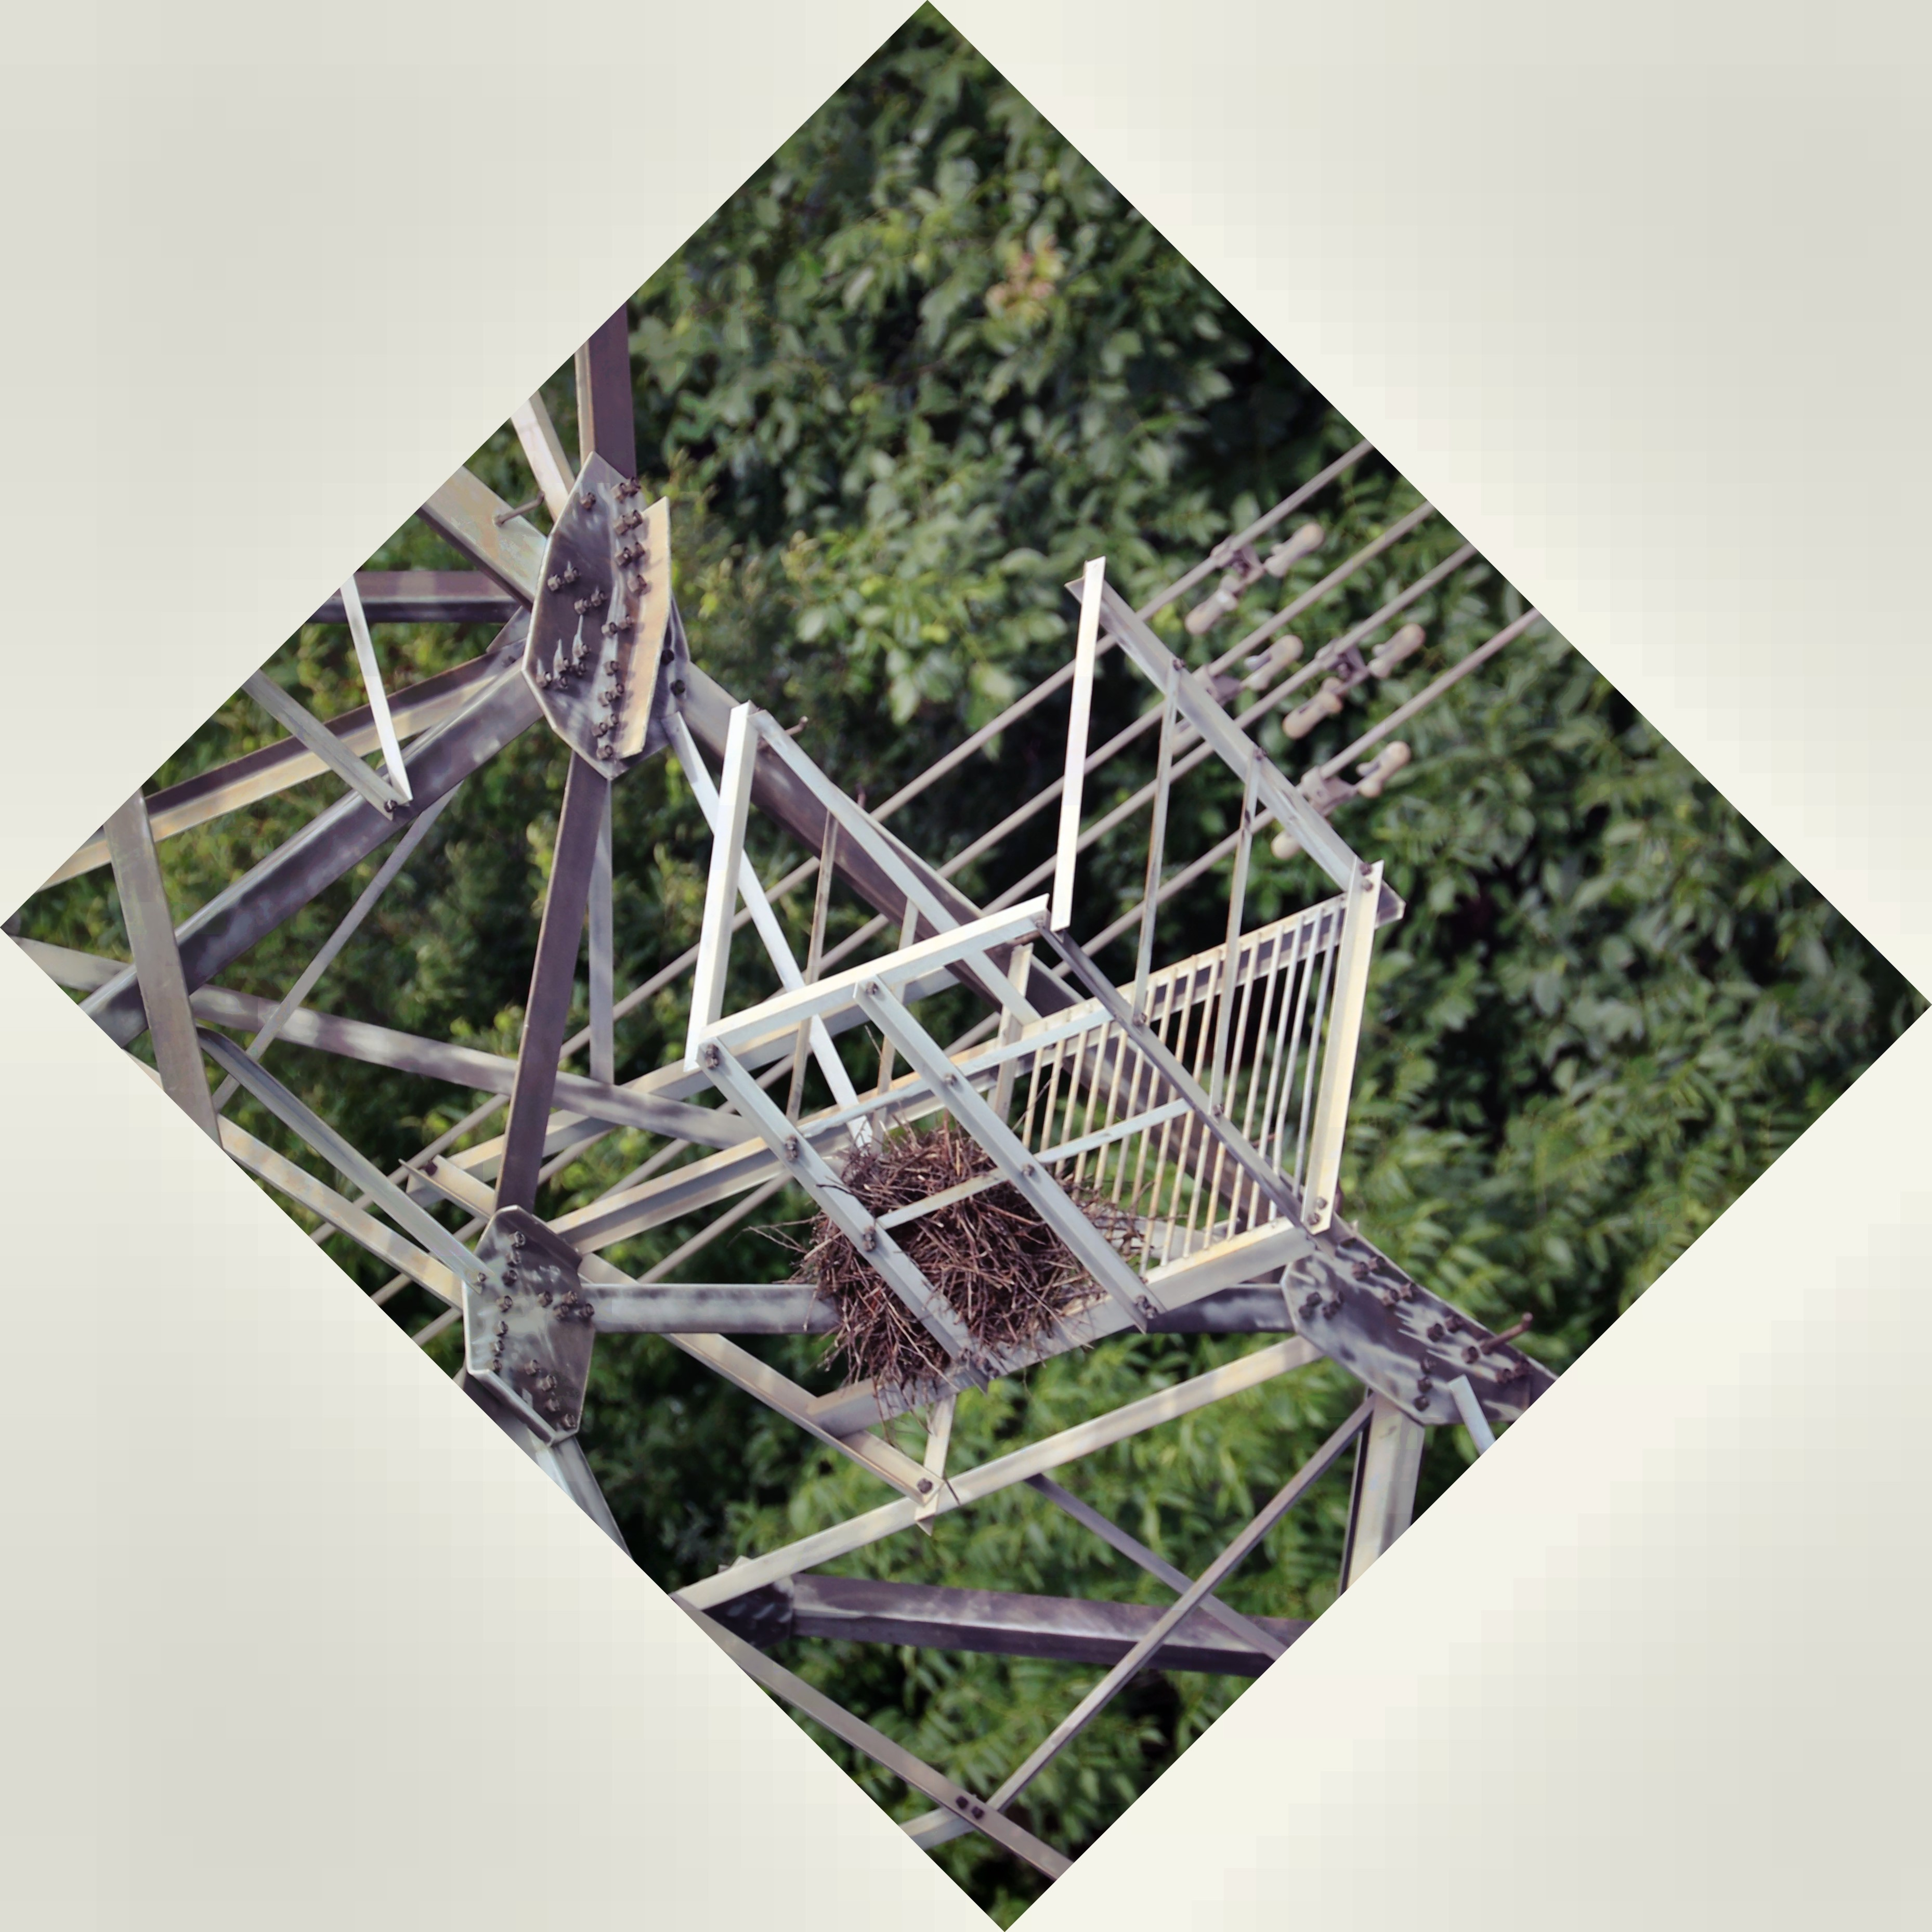niaowo: (750, 1123, 1138, 1419)
